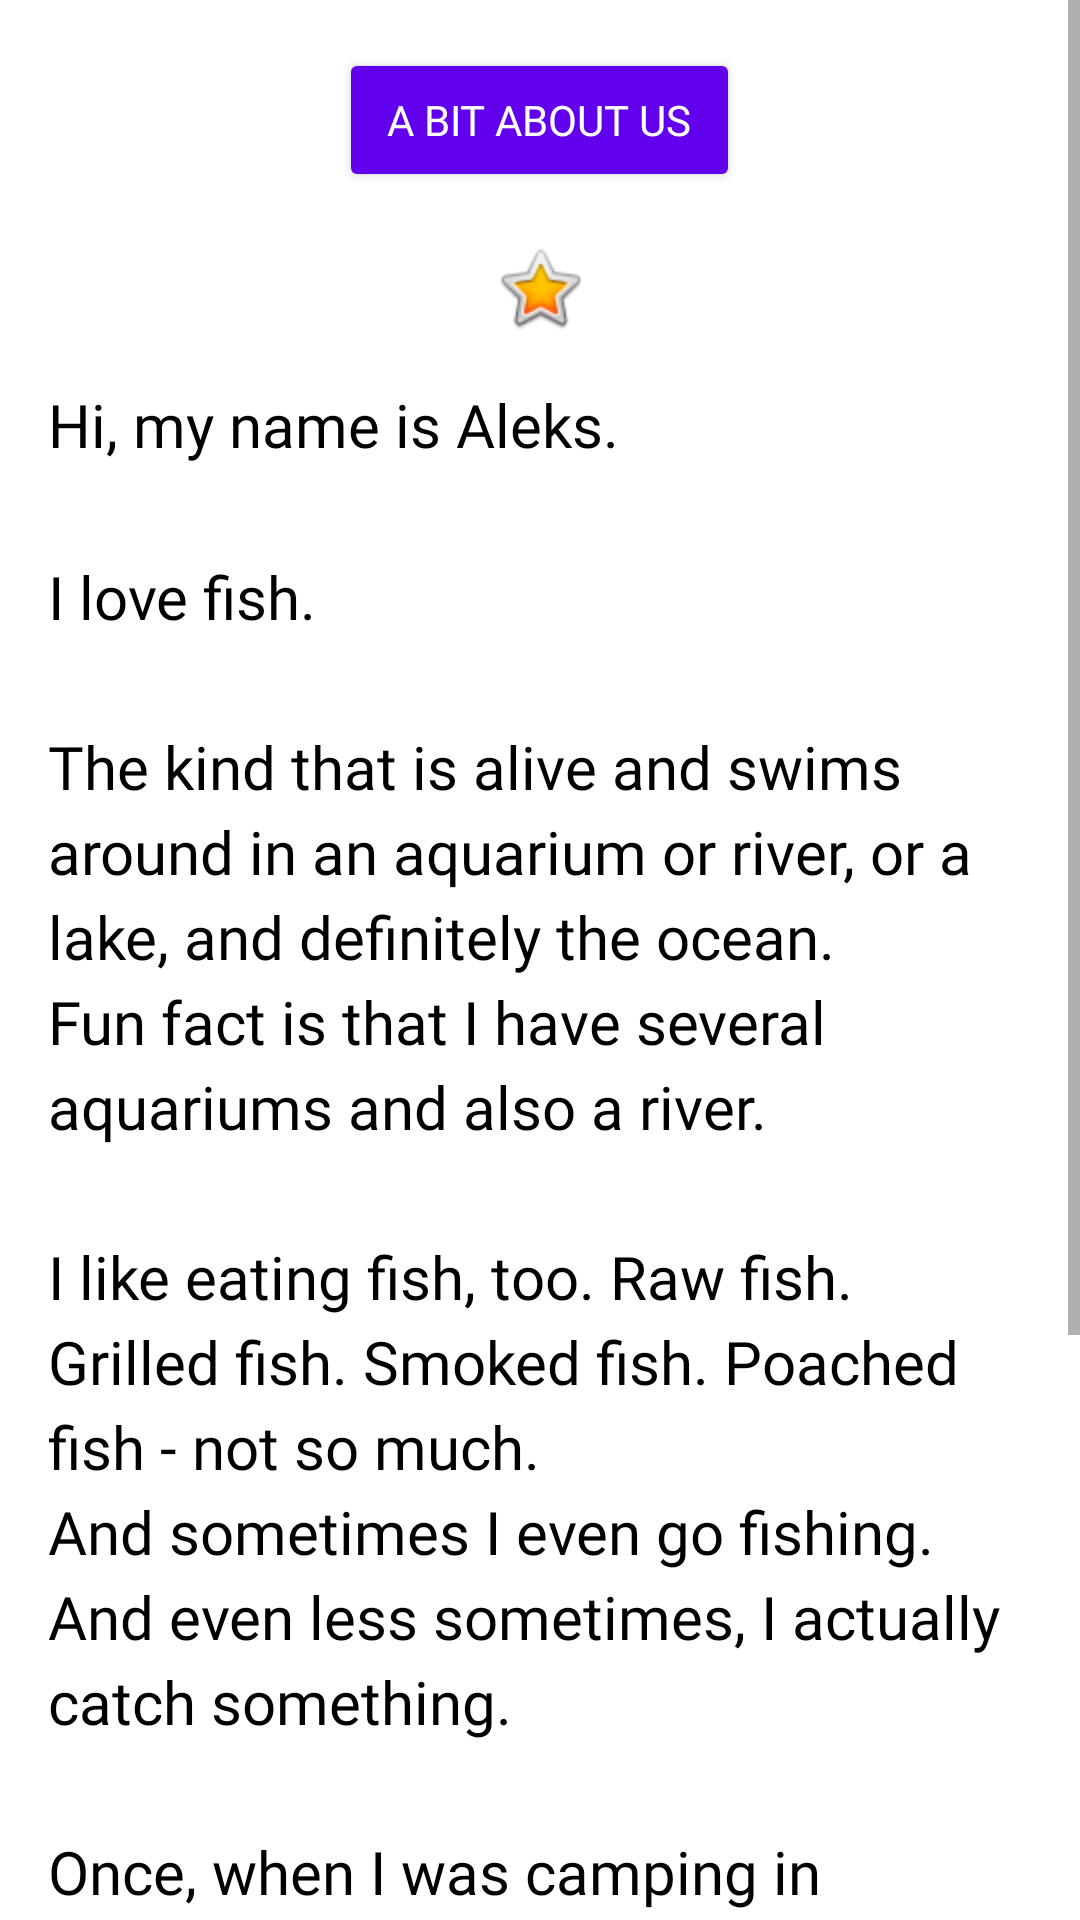

Where icons sit on this 1080 x 1920 app screen, as (x1, y1, x2, y2):
star on: (501, 250, 581, 328)
